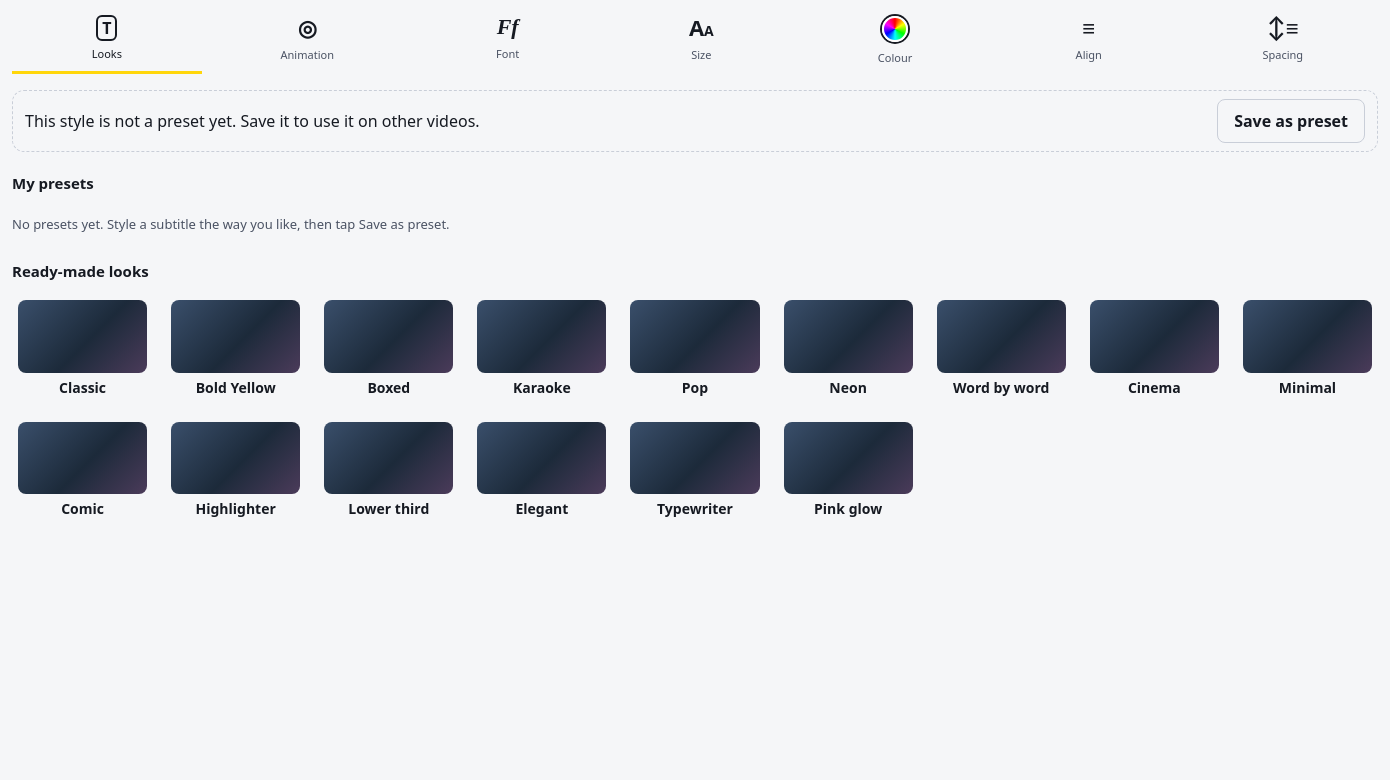
Scenario: Presets › offers Save as preset after an edit, asks for a name, then shows it as saved
Expected: the text "No presets yet" is shown, x1=12 y1=215 x2=450 y2=233
Click the tab "AA Size" at point(701, 43), box x1=606 y1=12 x2=796 y2=74
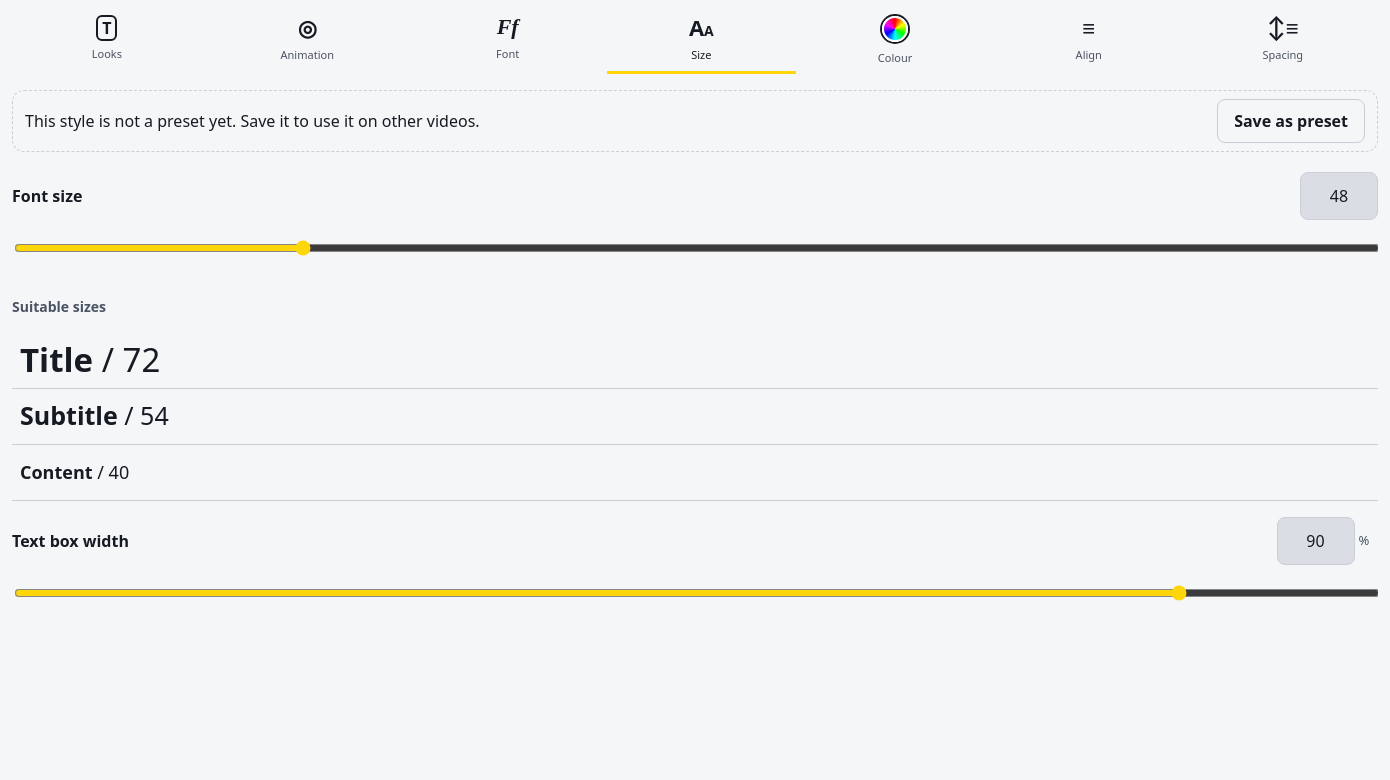
Click the button "Save as preset" at point(1291, 120), box x1=1217 y1=98 x2=1365 y2=142
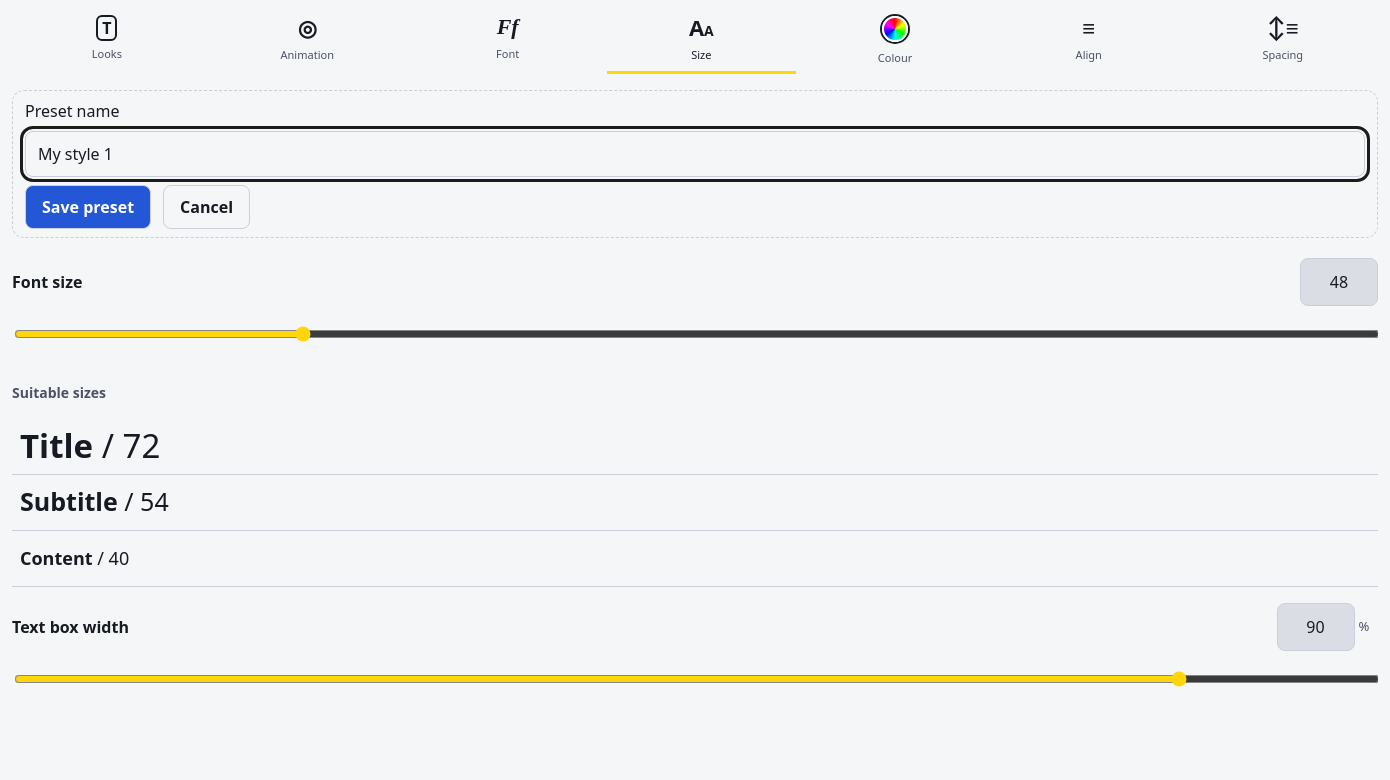
Now the field labelled "Preset name" holds "My style 1"
Replace the text in the field labelled "Preset name" with "Wedding" at point(695, 154), box x1=25 y1=130 x2=1365 y2=176
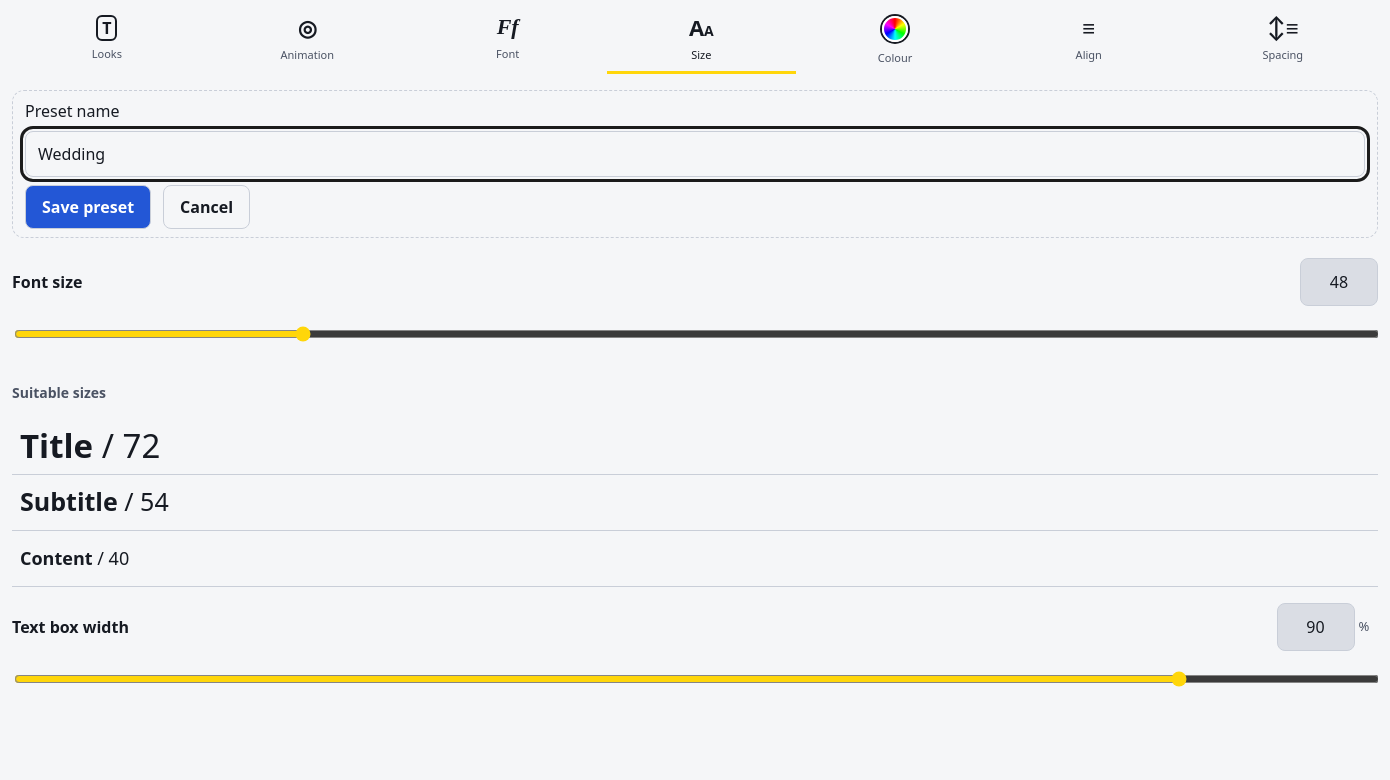
Click the button "Save preset" at point(88, 206), box x1=25 y1=184 x2=151 y2=228
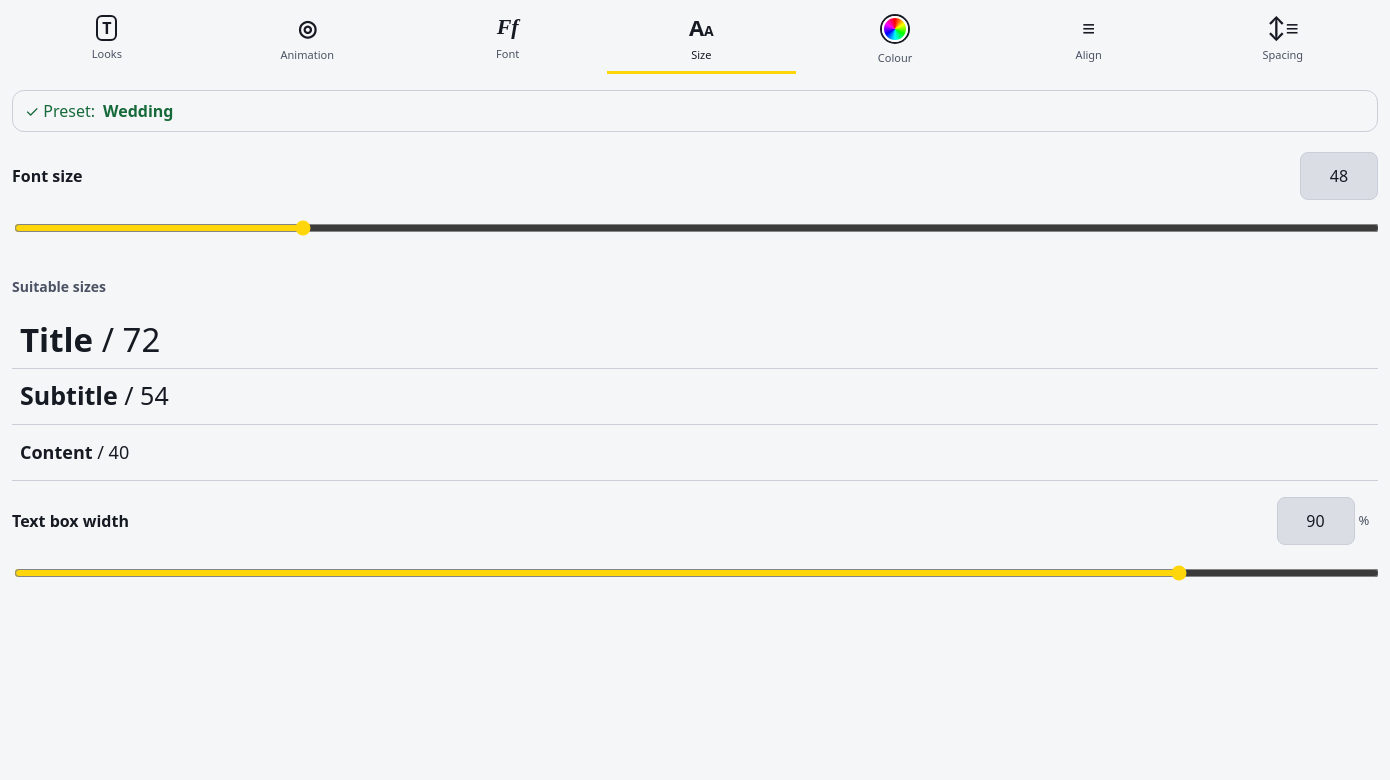
Expected: the button "Save as preset" is not shown
Now the text "Wedding" is shown, box x1=103 y1=98 x2=174 y2=122
